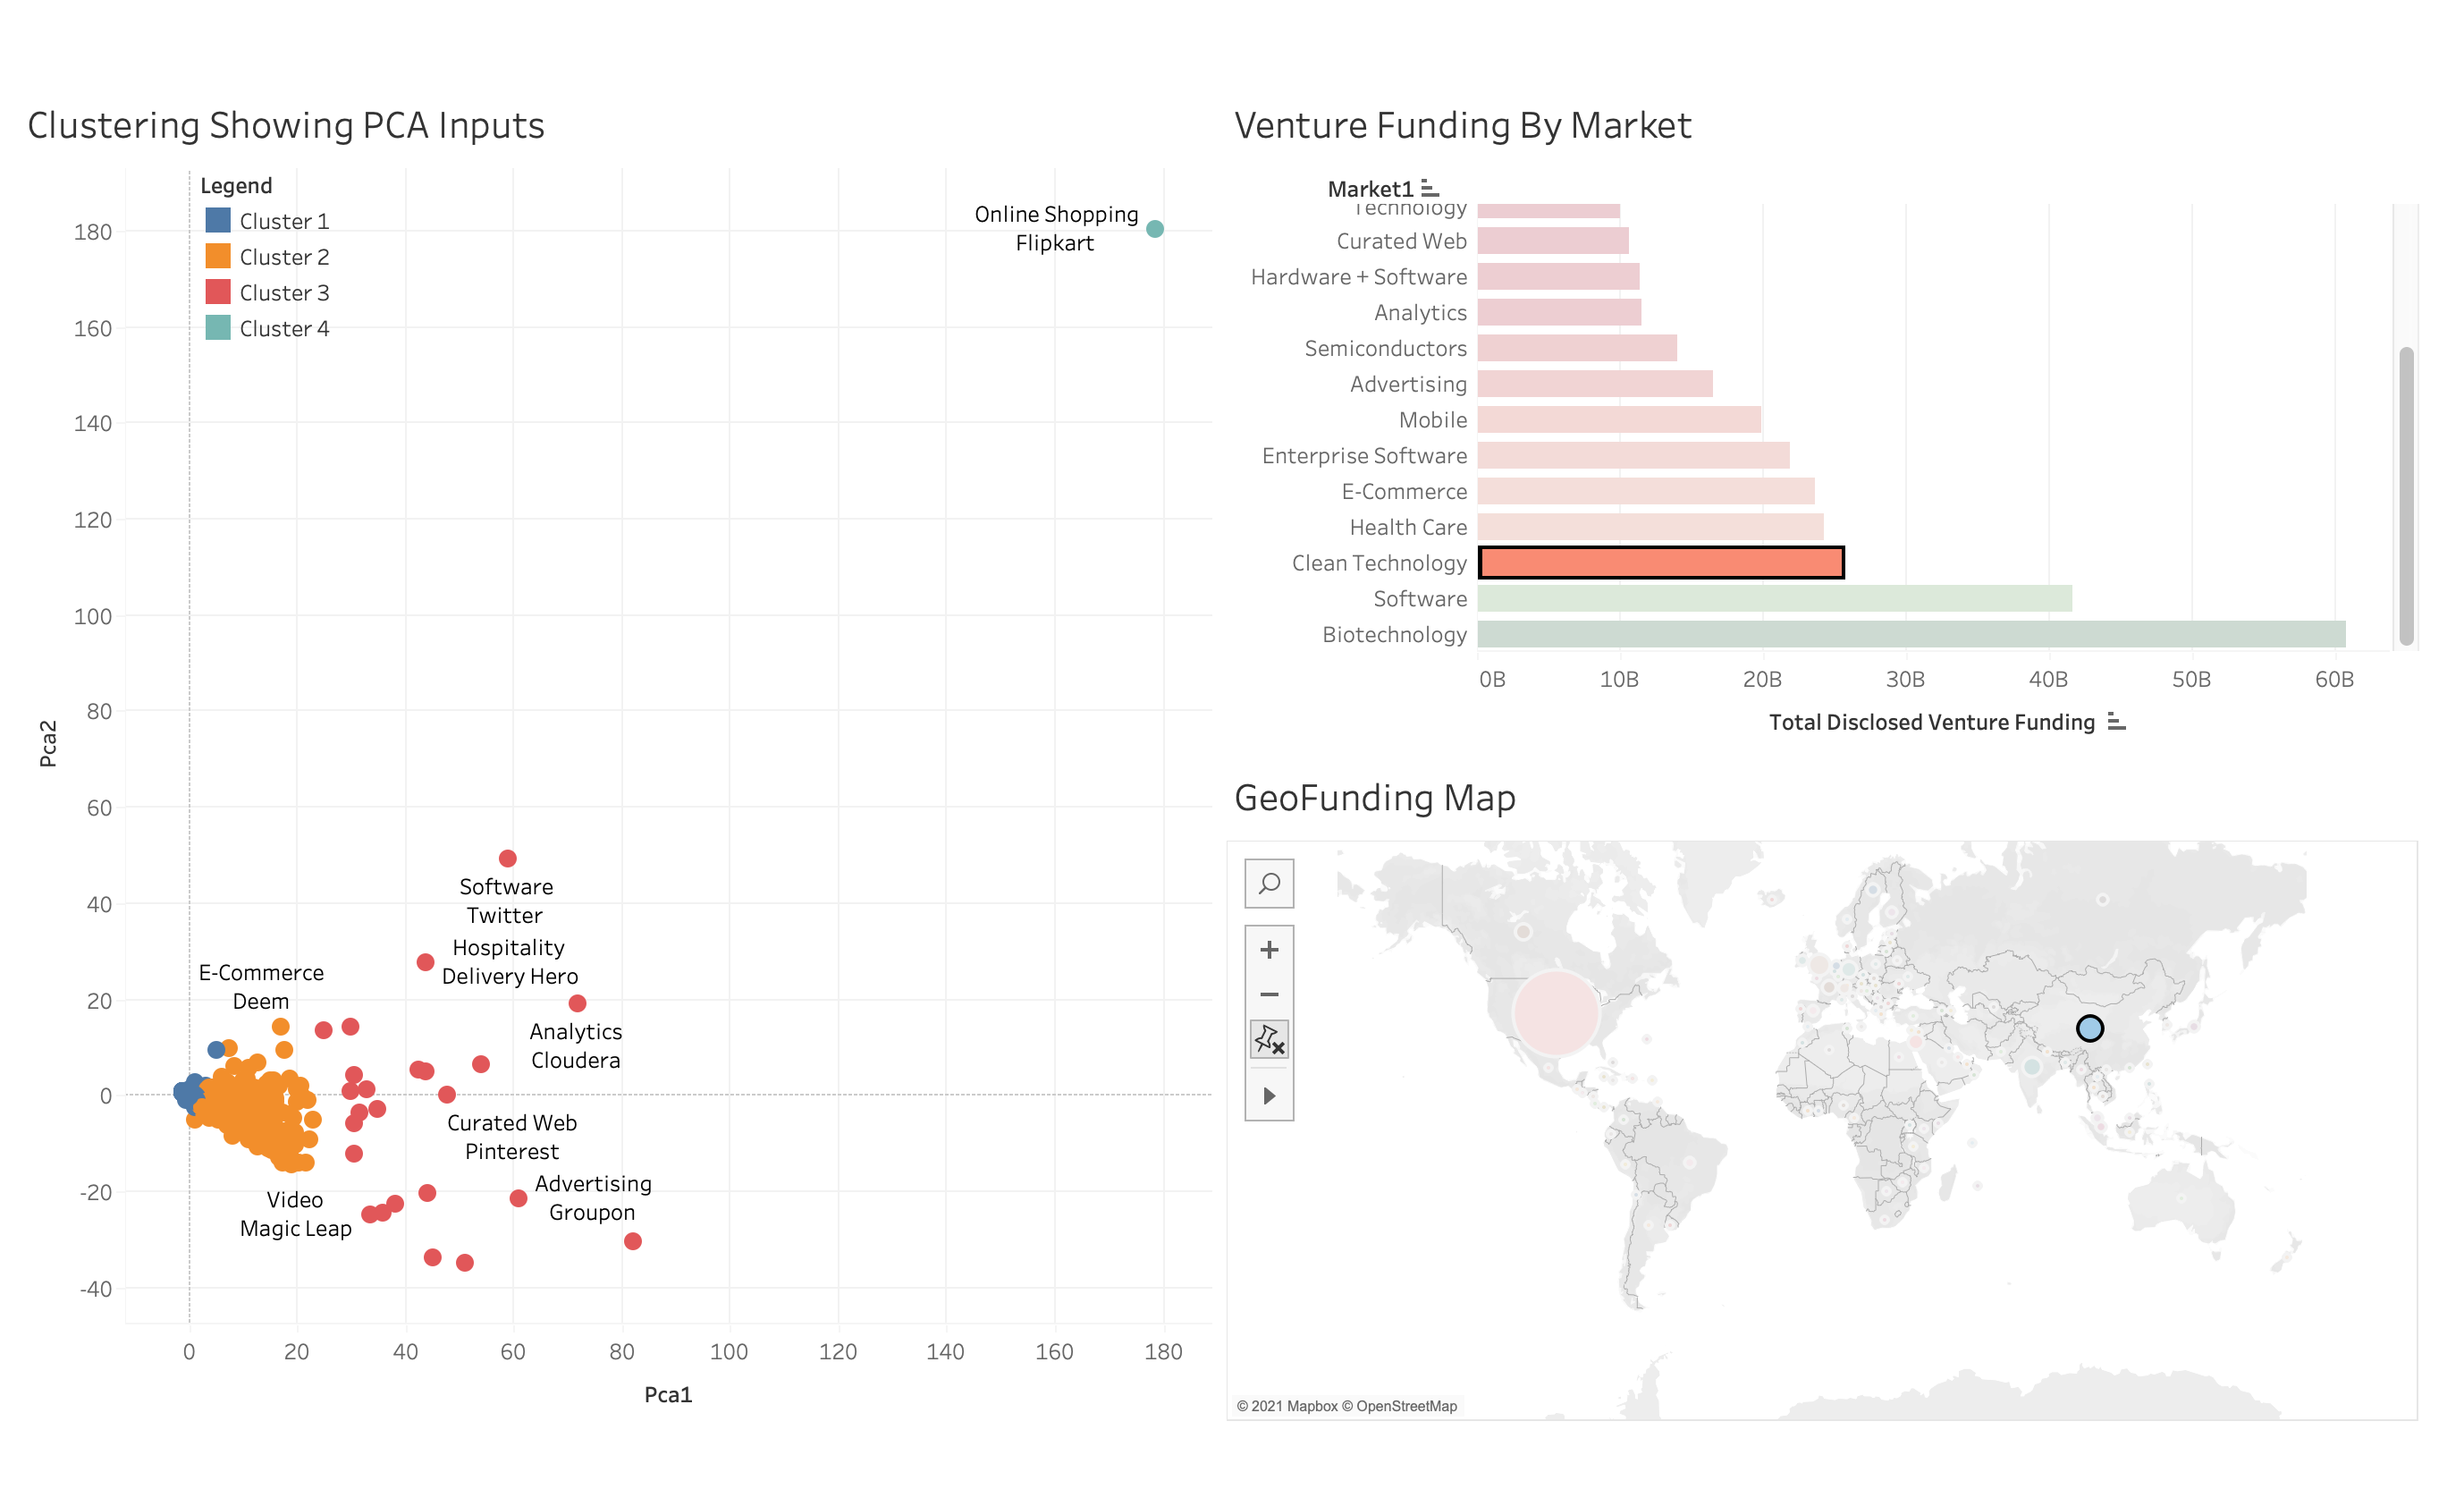

The dashboard page shown, as its layout file describes it:
{"tool":"tableau","page":{"name":"Dashboard 1","canvas":[1366,768],"ordinal":0},"visuals":[{"type":"worksheet","title":"Clustering Showing PCA Inputs","mark":"Circle","rows":["pca2"],"cols":["pca1"],"box":[8,8,675,752]},{"type":"worksheet","title":"Venture Funding By Market","mark":"Automatic","rows":["market "],"cols":["total_disclosed_venture_funding"],"box":[683,8,675,464.2]},{"type":"legend","title":"Clustering Showing PCA Inputs","param":"[federated.1y911xz0fs2wbw15nazm30zgh3ds].[none:AdhocCluster:2:ok]","box":[115,90,140,98]},{"type":"worksheet","title":"GeoFunding Map","mark":"Automatic","box":[683,472.2,675,287.8]}]}

Visuals, with their boxes on the page's 1366x768 design canvas (x1, y1, x2, y2). These are canvas units, not pixel positions in the 2464x1506 screenshot, which may show the page scaled, cropped or inside an application window:
"Clustering Showing PCA Inputs" worksheet (Circle marks): bbox=(8, 8, 683, 760)
"Venture Funding By Market" worksheet: bbox=(683, 8, 1358, 472)
"Clustering Showing PCA Inputs" legend: bbox=(115, 90, 255, 188)
"GeoFunding Map" worksheet: bbox=(683, 472, 1358, 760)
